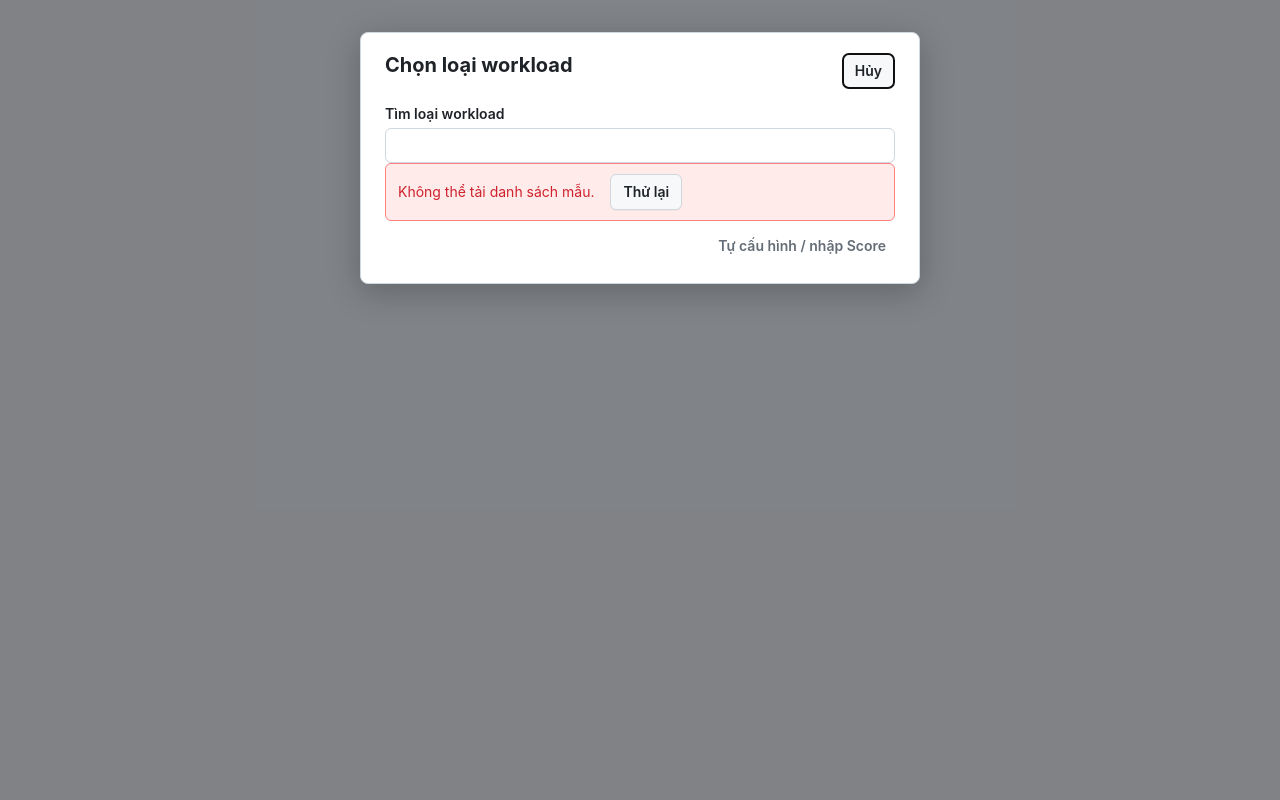
Test: reports catalog errors, retries explicitly and ignores late replies after scope changes
expect the message "Không thể tải danh sách mẫu. Thử lại" is shown: met, box [385,163,895,221]
Click the button "Thử lại" at [646, 192], box [610,174,682,210]
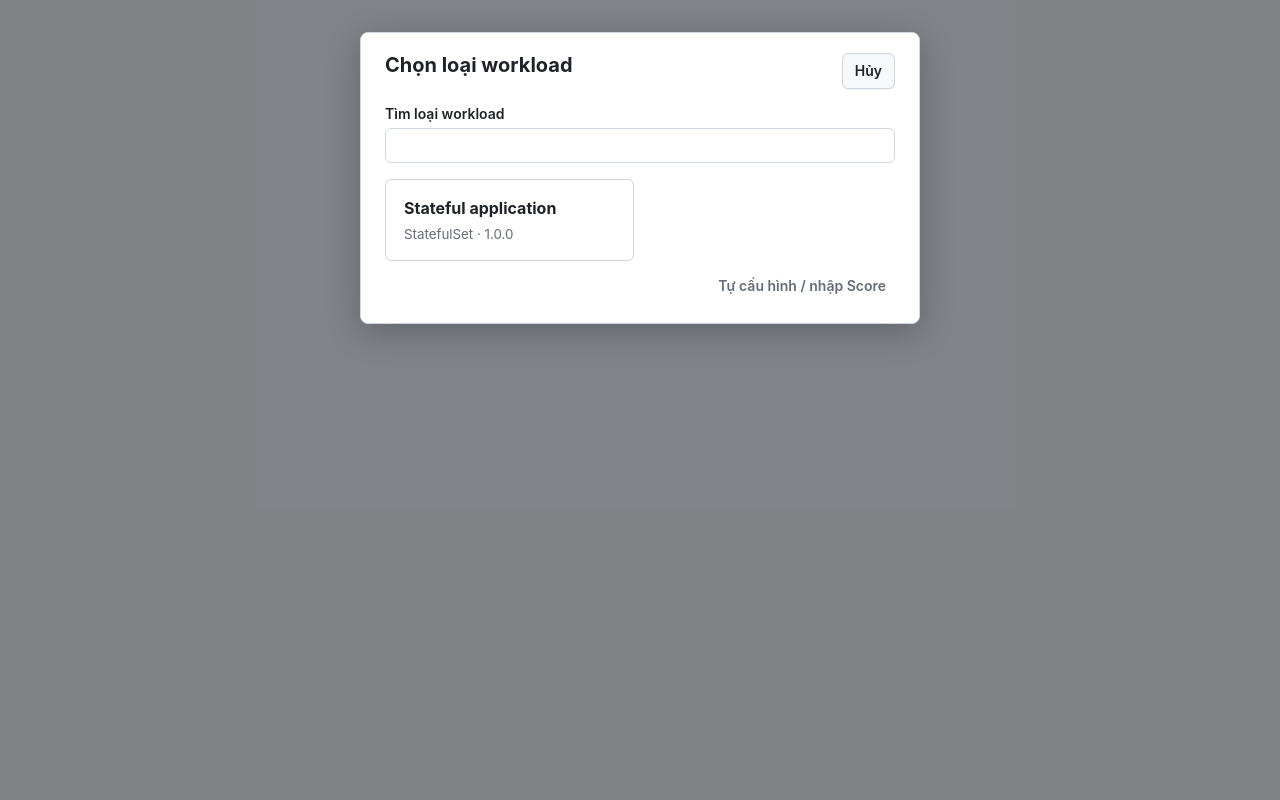
expect the button "Stateful application StatefulSet · 1.0.0" is shown: met, box [385,179,634,261]
